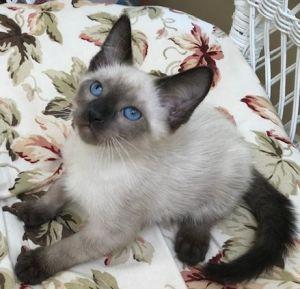siamese: (67, 9, 215, 166)
